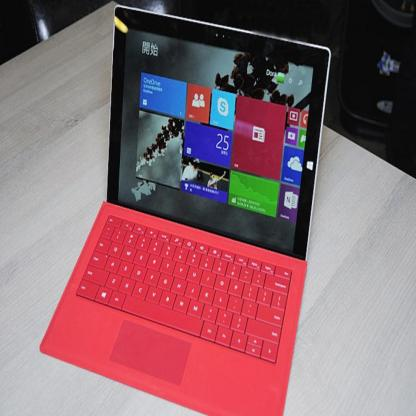board: (40, 4, 333, 416)
